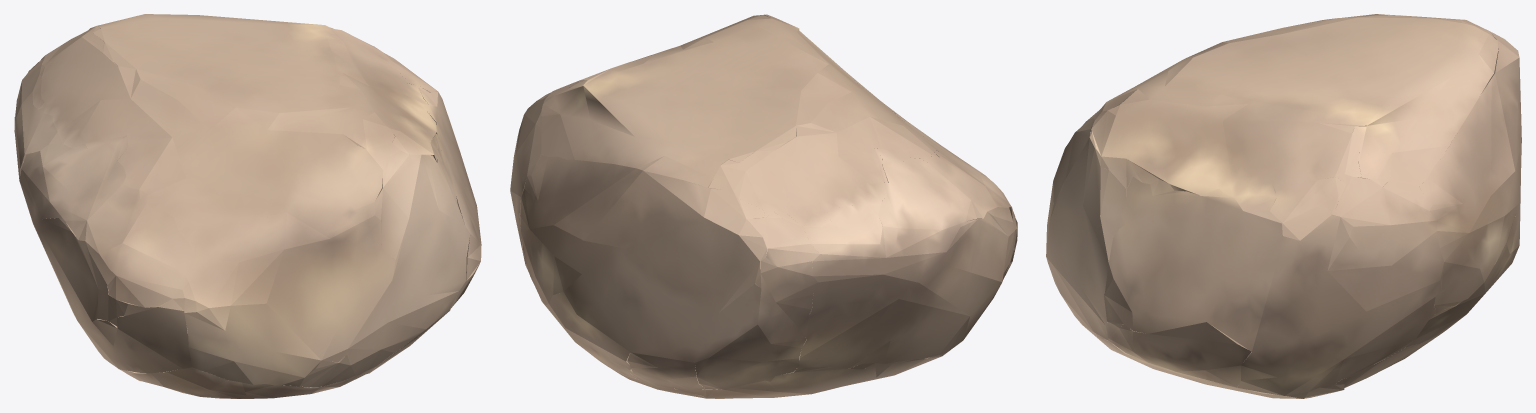
Rendered from BigStone1Repo.fbx.
The picture shows the model from 3 angles, left to right: view 1: azimuth 30°, elevation 25°; view 2: azimuth 150°, elevation 25°; view 3: azimuth 270°, elevation 25°; orthographic projection. The views are drawn at different scales.
Parts seen in each view (by area): view 1: Sten 1_Baked; view 2: Sten 1_Baked; view 3: Sten 1_Baked.
Part boxes in pixels (x1,y1,x2,y2): Sten 1_Baked: (14, 14, 481, 398); Sten 1_Baked: (510, 14, 1017, 398); Sten 1_Baked: (1046, 14, 1521, 398).
Size of the model in its own units: 19.57 by 12.06 by 19.02.
